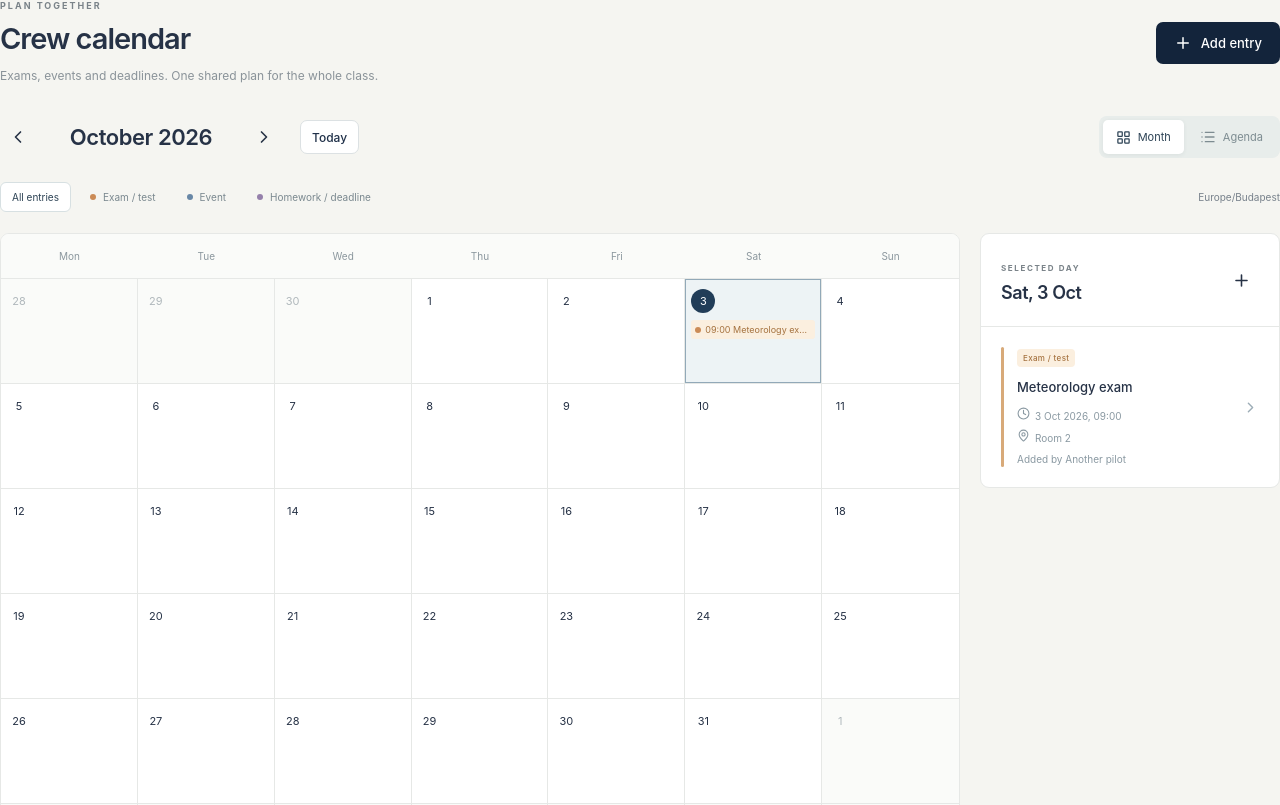
Test: Community calendar interactions › lets members inspect another author’s entry without edit or delete controls
The width and height of the screenshot is (1280, 805).
Click the button with aria-label "Open Meteorology exam,". click: (1046, 358)
box: [981,327,1279,487]
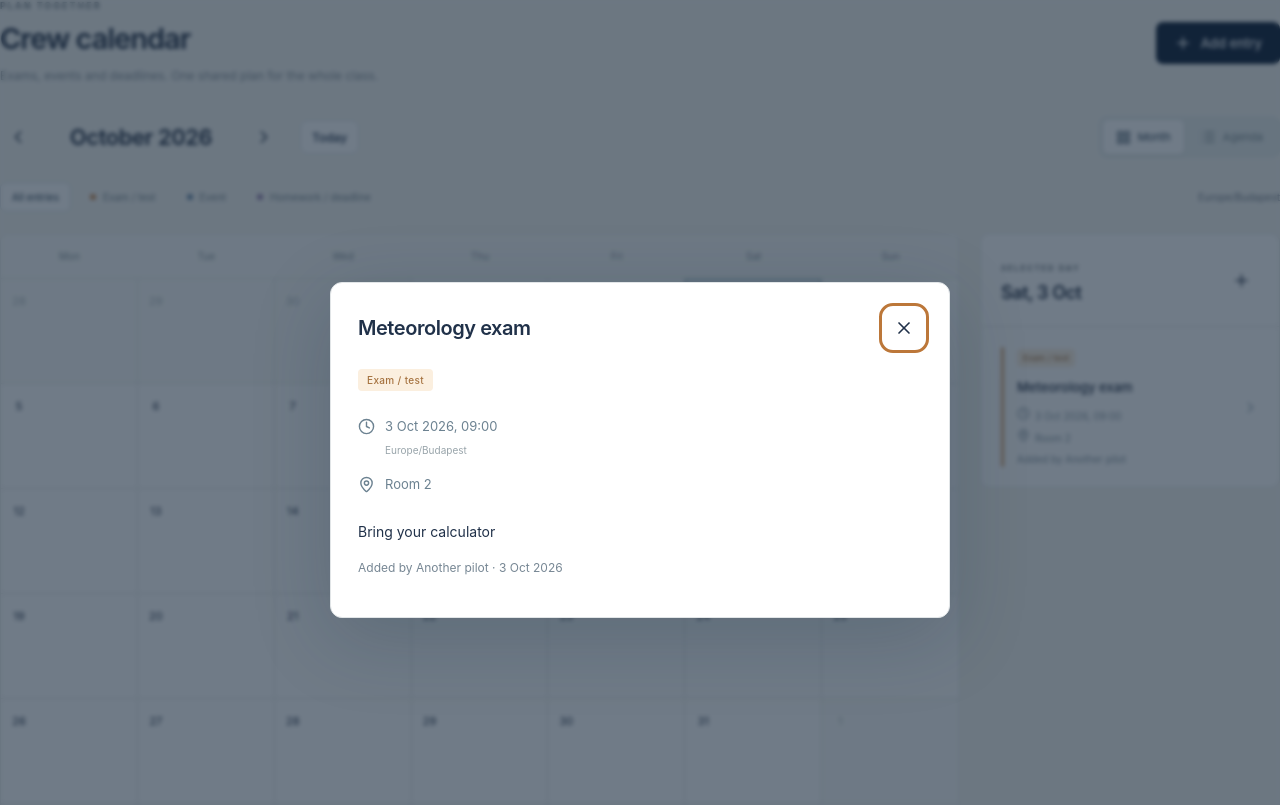
Now the text "Bring your calculator" is shown, box [358,522,495,540]
